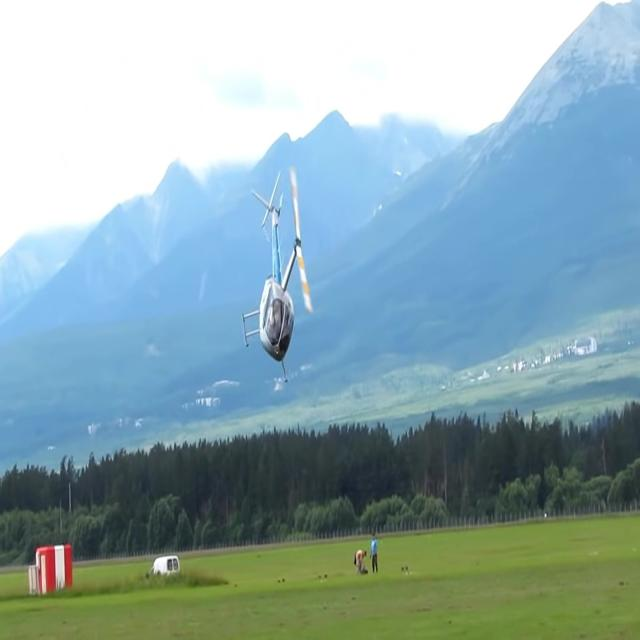CIV_HELO: (241, 168, 301, 385)
